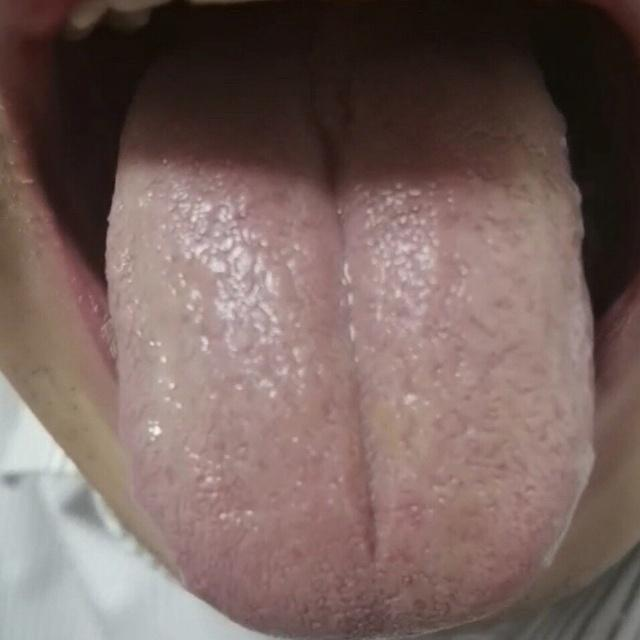huangtaishe: (104, 58, 593, 640)
liewenshe: (305, 79, 384, 562)
